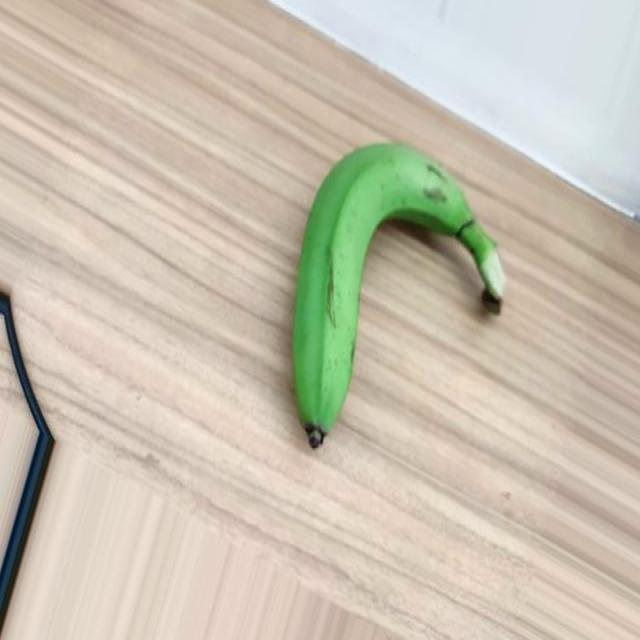Unripe: (291, 139, 508, 457)
